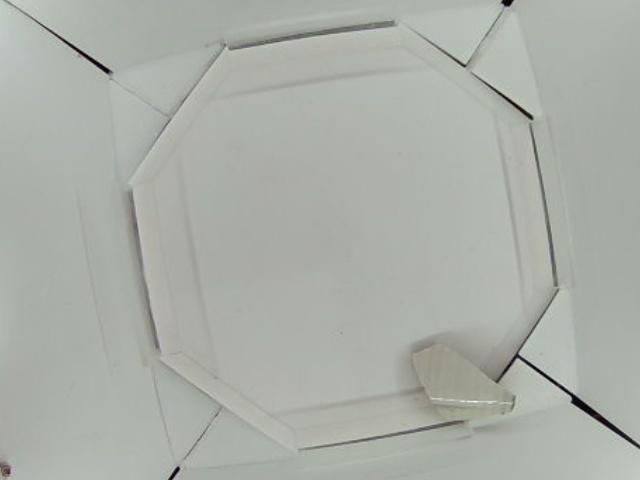China: (410, 336, 520, 428)
